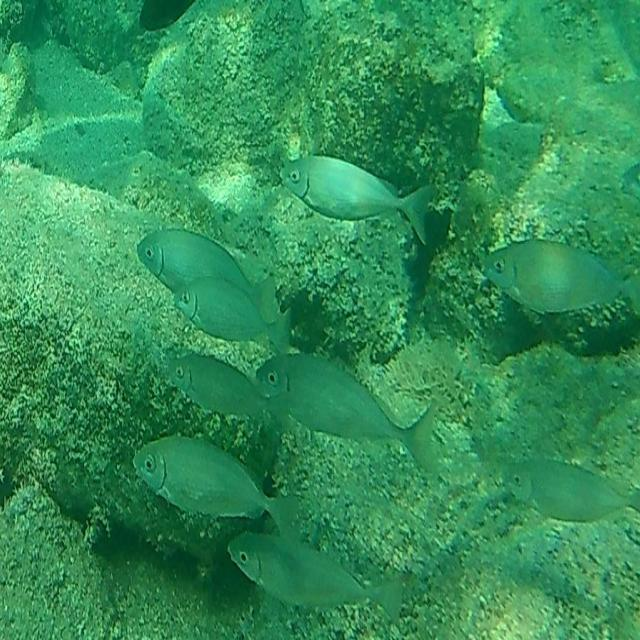Sokar Baligi: (122, 426, 315, 541), (281, 141, 443, 267), (478, 222, 640, 345), (491, 438, 640, 550)
